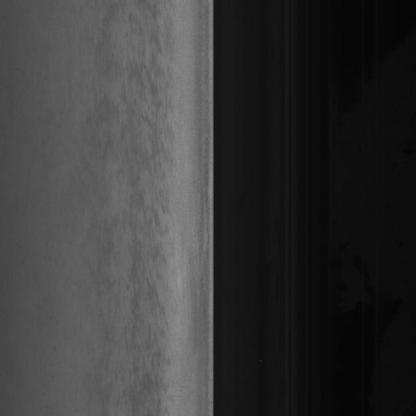silk_spot: (127, 45, 182, 366)
